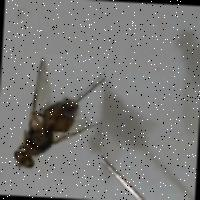Oriental-fruit-fly: (8, 51, 106, 176)
